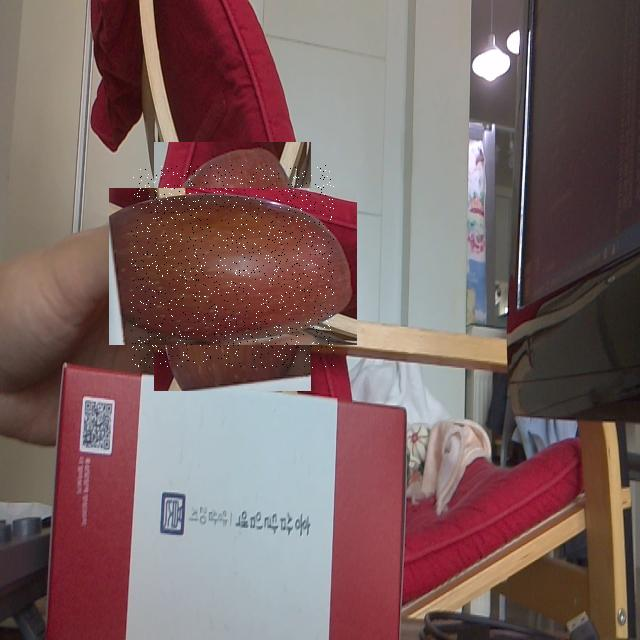apple: (131, 165, 334, 368)
